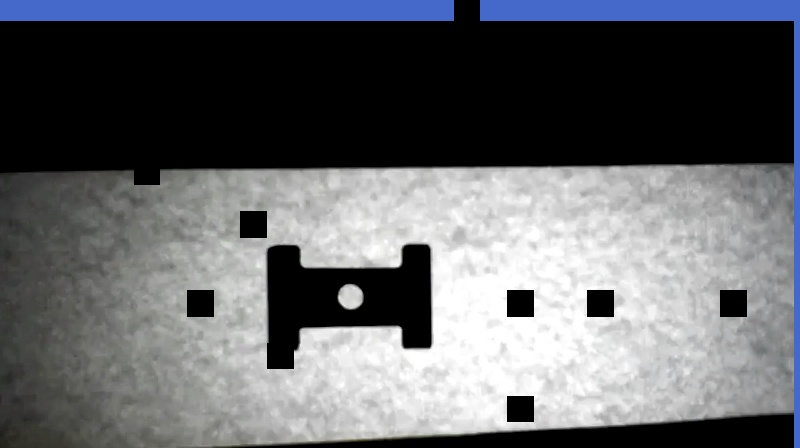O002: (263, 240, 436, 350)
